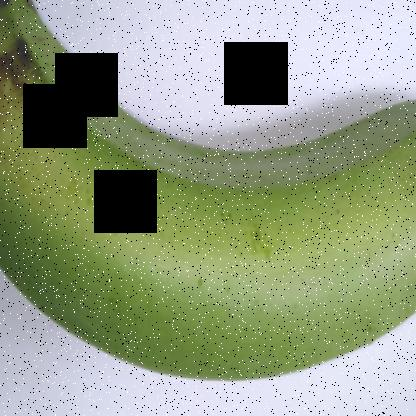freshunripe: (1, 0, 415, 404)
